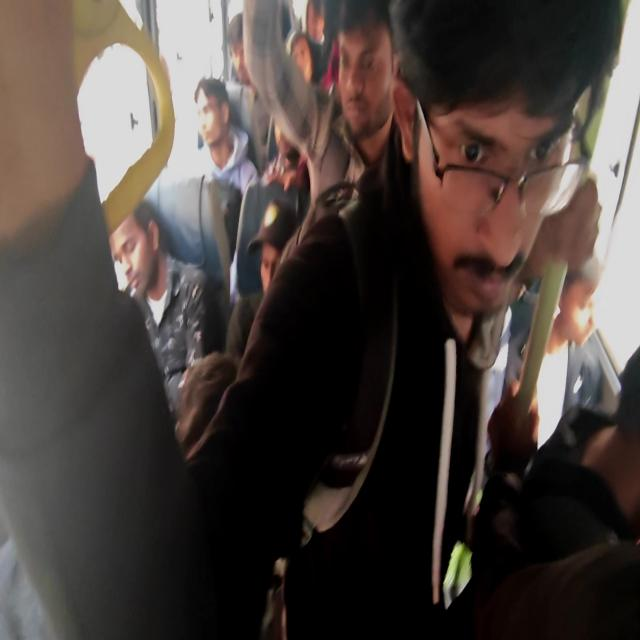person: (177, 1, 629, 637), (0, 0, 202, 638), (469, 343, 639, 638), (109, 200, 226, 426), (225, 197, 298, 360), (193, 75, 259, 198)
